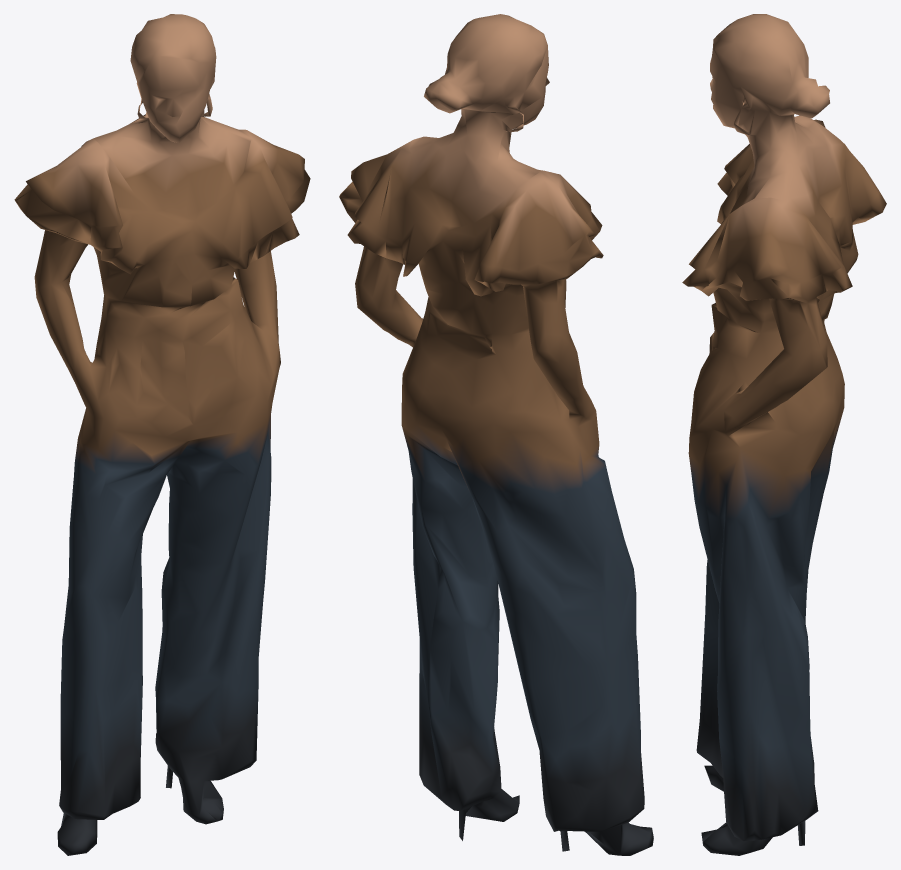
Rendered from people_typ1_stand.glb.
3 renders of one model, left to right at view 1: azimuth 30°, elevation 25°; view 2: azimuth 150°, elevation 25°; view 3: azimuth 270°, elevation 25°, orthographic. The views are drawn at different scales.
Visible parts, largest first — view 1: people_typ1_stand-mesh; view 2: people_typ1_stand-mesh; view 3: people_typ1_stand-mesh.
Boxes of the visible parts, box(x1,y1,x2,y2) form: people_typ1_stand-mesh: box(14, 14, 310, 855); people_typ1_stand-mesh: box(339, 14, 653, 855); people_typ1_stand-mesh: box(682, 14, 886, 855).
Bounding box in the file's own units: 0.6456 × 1.78 × 0.4021.
